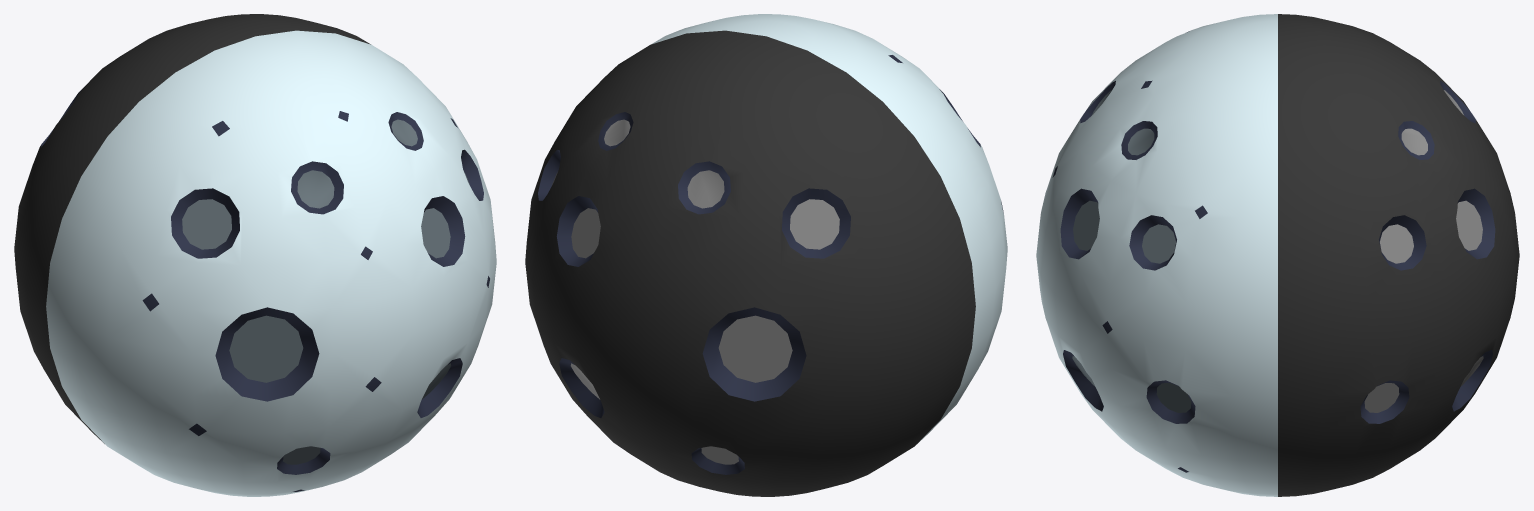
Rendered from Moon4.glb.
The picture shows the model from 3 angles, left to right: view 1: azimuth 30°, elevation 25°; view 2: azimuth 150°, elevation 25°; view 3: azimuth 270°, elevation 25°; orthographic projection.
Visible parts, largest first — view 1: Sphere; view 2: Sphere; view 3: Sphere.
Part boxes in pixels (x1,y1,x2,y2): Sphere: [14, 14, 496, 496]; Sphere: [525, 14, 1007, 496]; Sphere: [1036, 14, 1519, 496].
Size of the model in its own units: 2 by 2 by 2.
